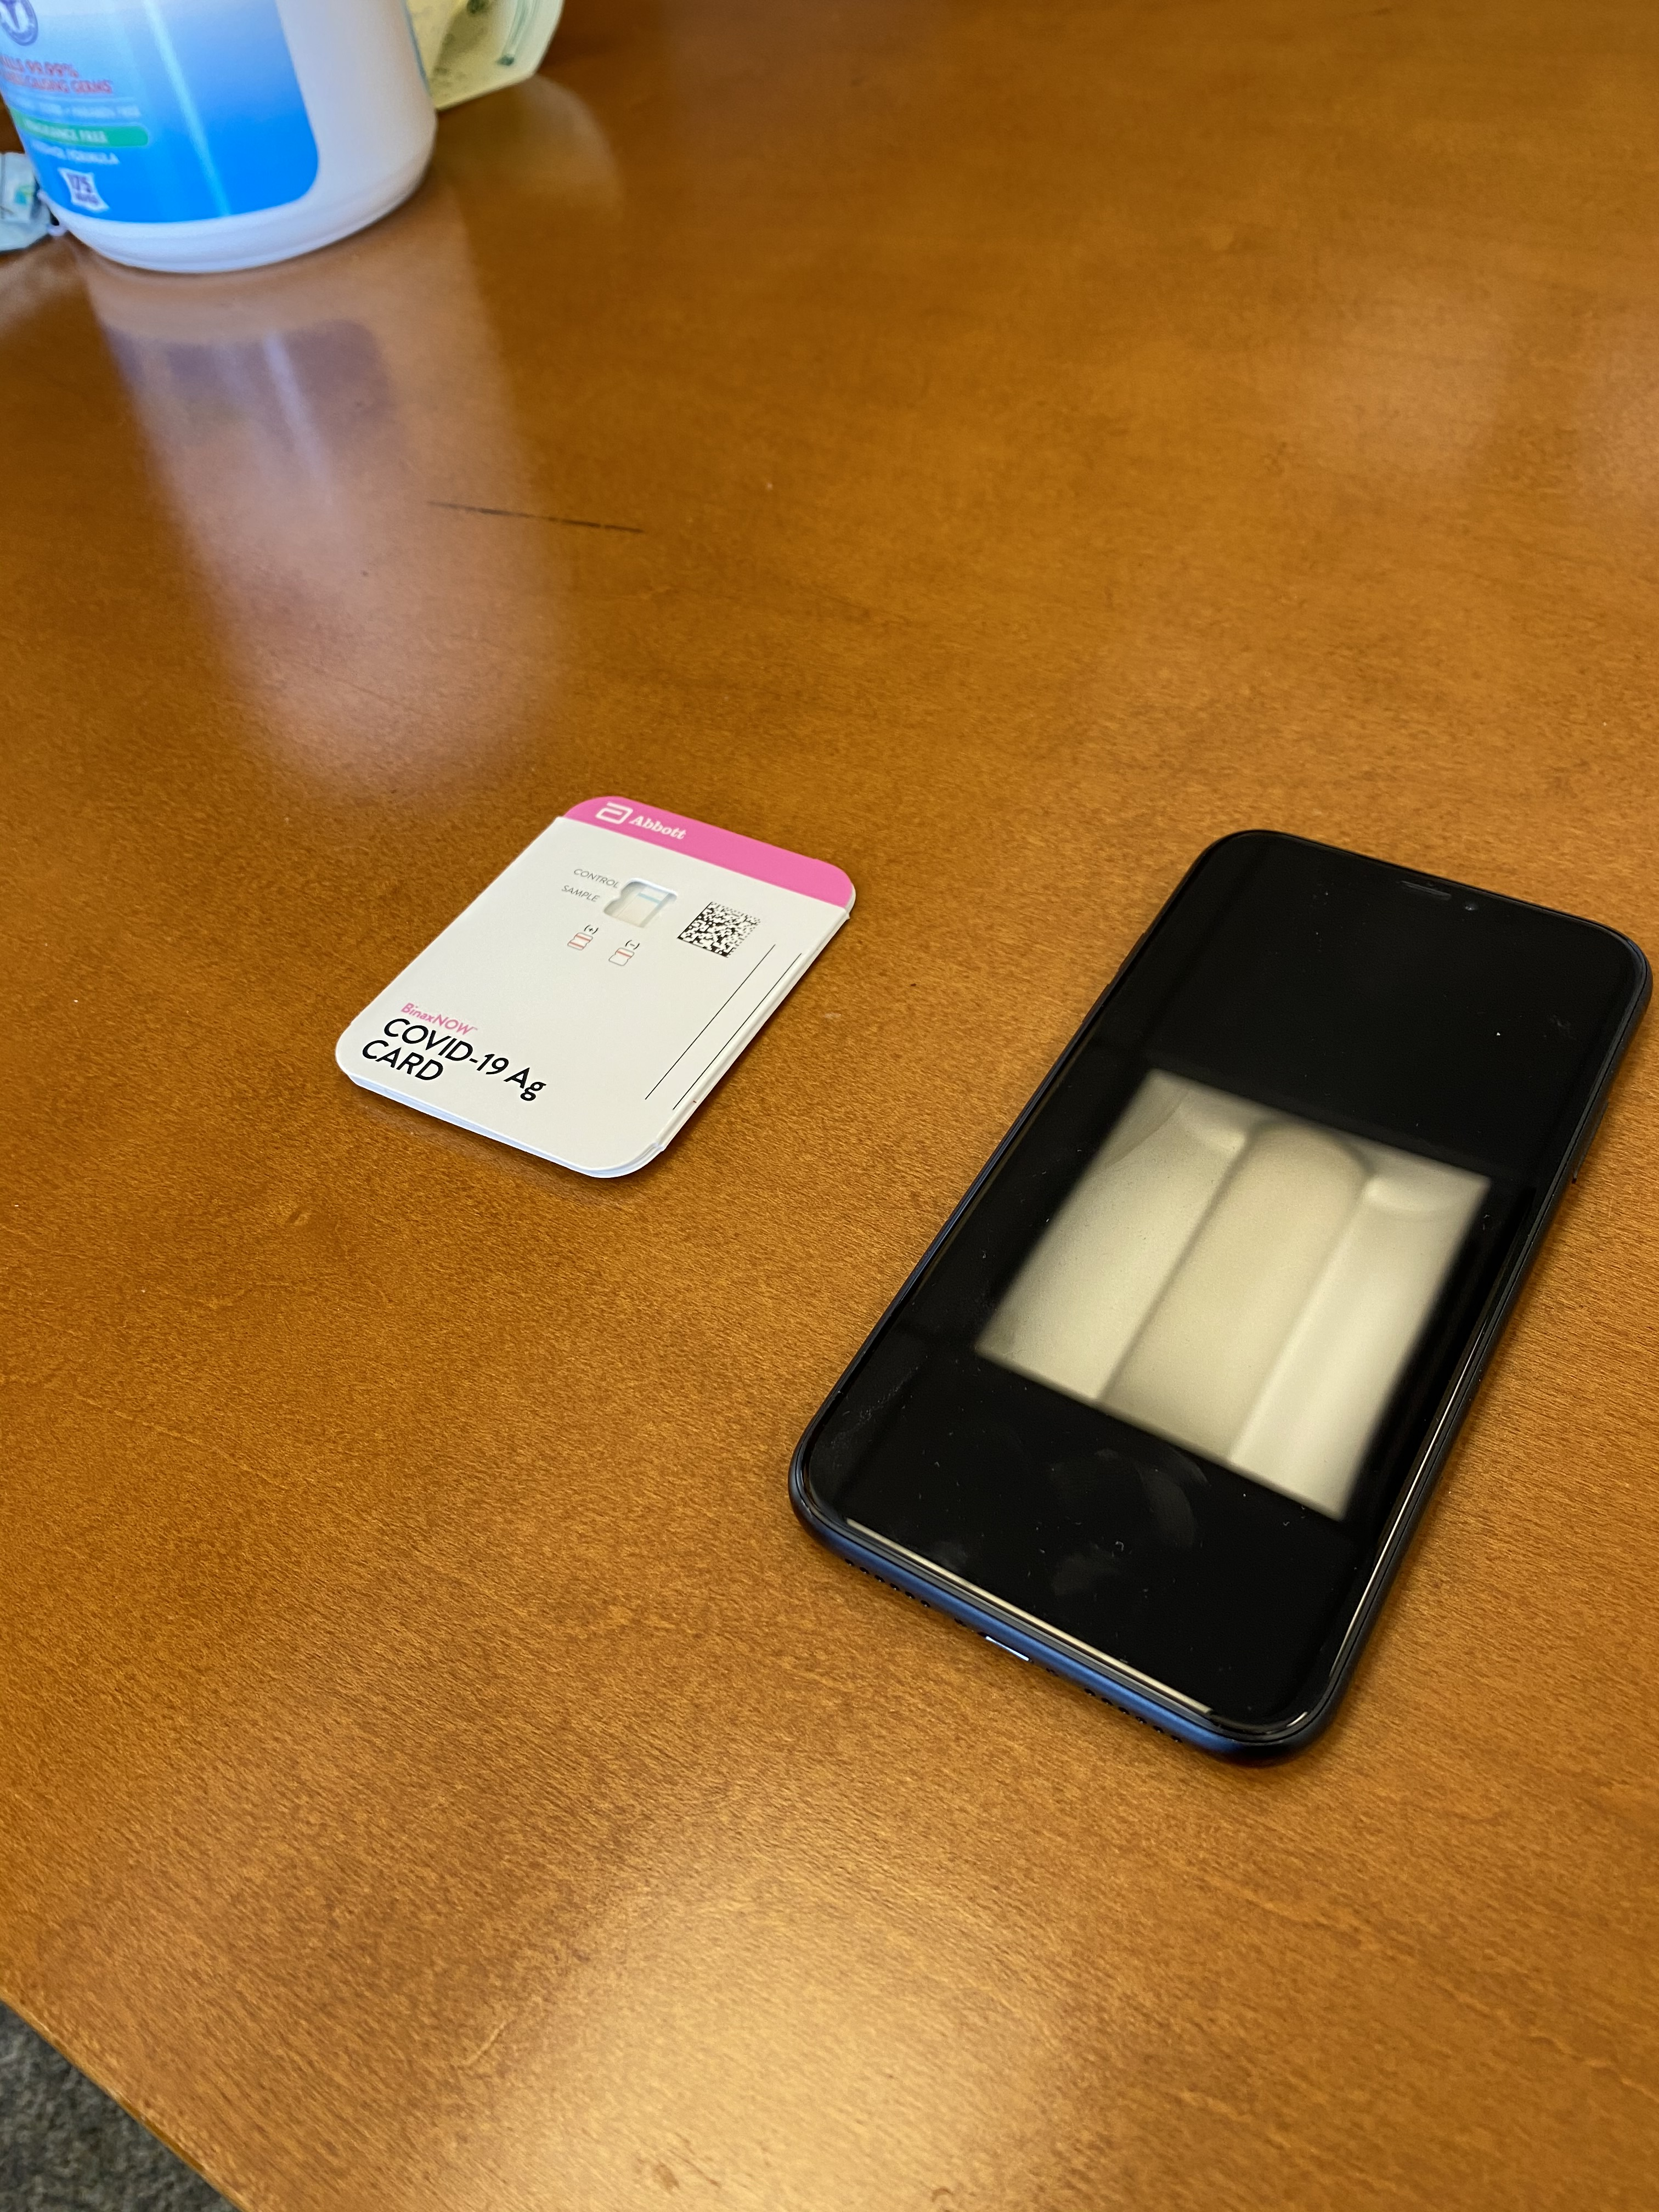binax: (328, 775, 866, 1195)
